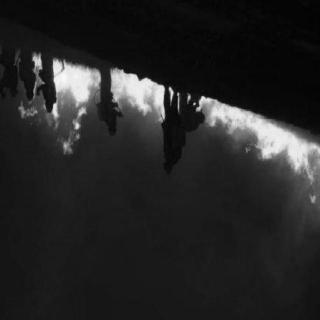Fire: (200, 94, 318, 198), (26, 56, 102, 140), (177, 92, 180, 116), (170, 85, 172, 113)
